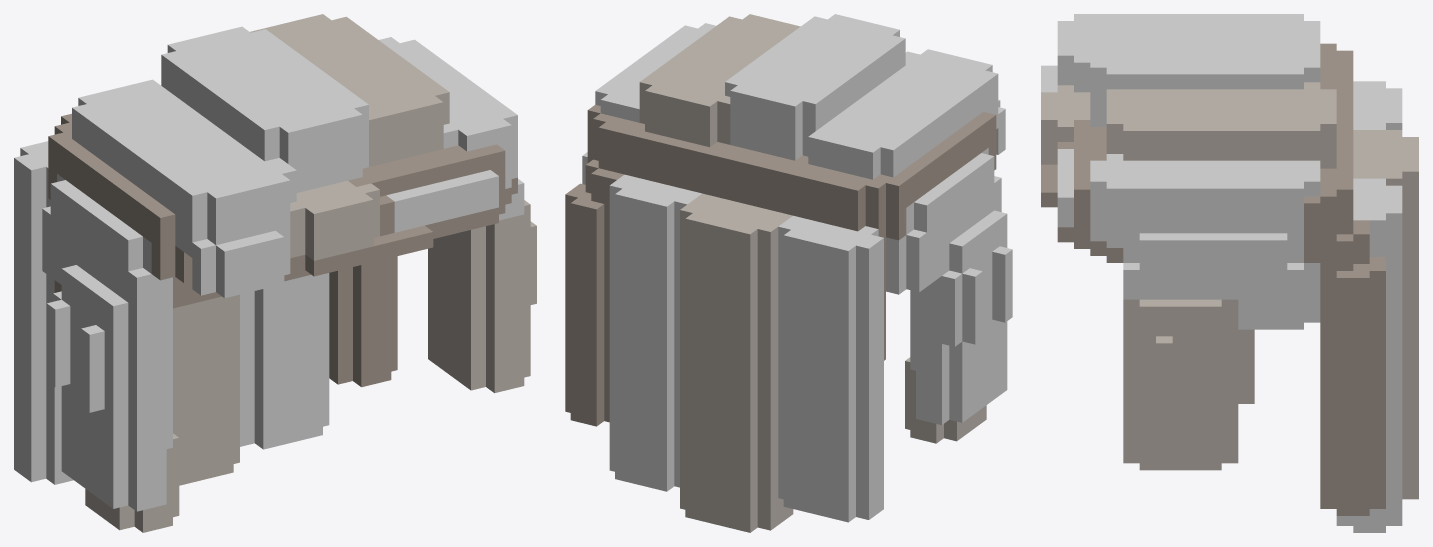
The model's file is hair_f_loose_long.glb.
The picture shows the model from 3 angles, left to right: view 1: azimuth 30°, elevation 25°; view 2: azimuth 150°, elevation 25°; view 3: azimuth 270°, elevation 25°; orthographic projection. The views are drawn at different scales.
Visible parts, largest first — view 1: VoxelVisual; view 2: VoxelVisual; view 3: VoxelVisual.
Boxes of the visible parts, bbox=[...] form: VoxelVisual: bbox=[14, 14, 536, 532]; VoxelVisual: bbox=[565, 14, 1012, 532]; VoxelVisual: bbox=[1041, 14, 1418, 532].
Size of what is drawn, in the model's own units: 1.88 by 1.81 by 1.44.
